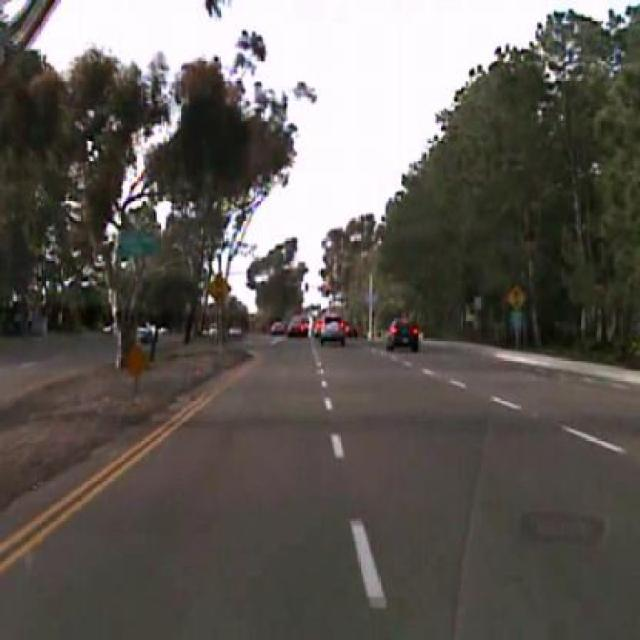signalAhead: (206, 269, 232, 306), (506, 283, 526, 312)
